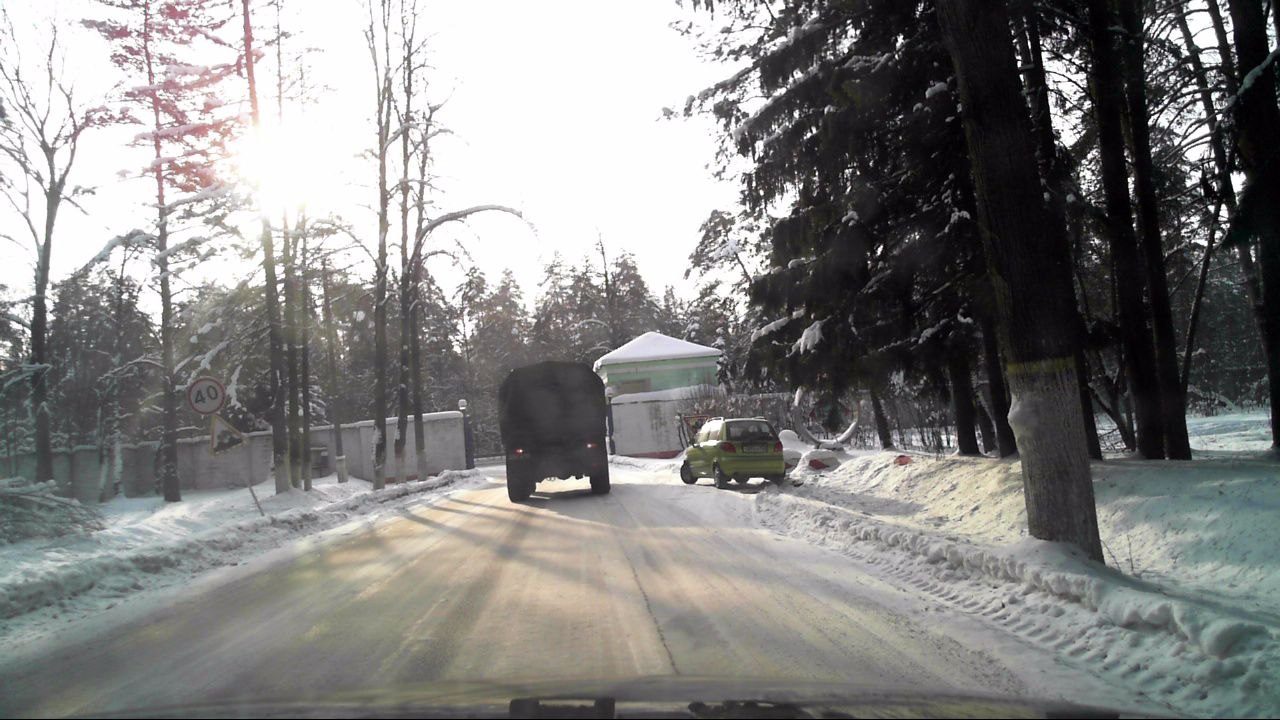speed_warning_40: (187, 378, 224, 415)
